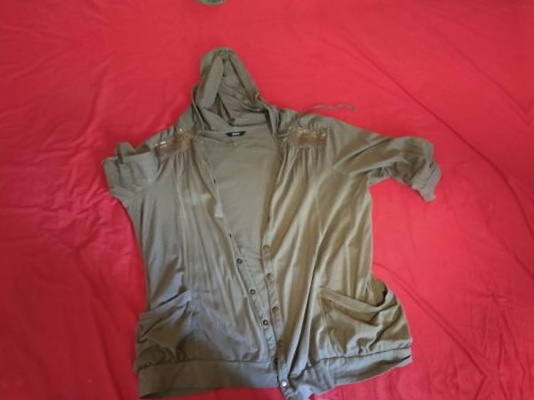Hoodie: (74, 13, 490, 400), (27, 0, 444, 28), (119, 388, 534, 400)
